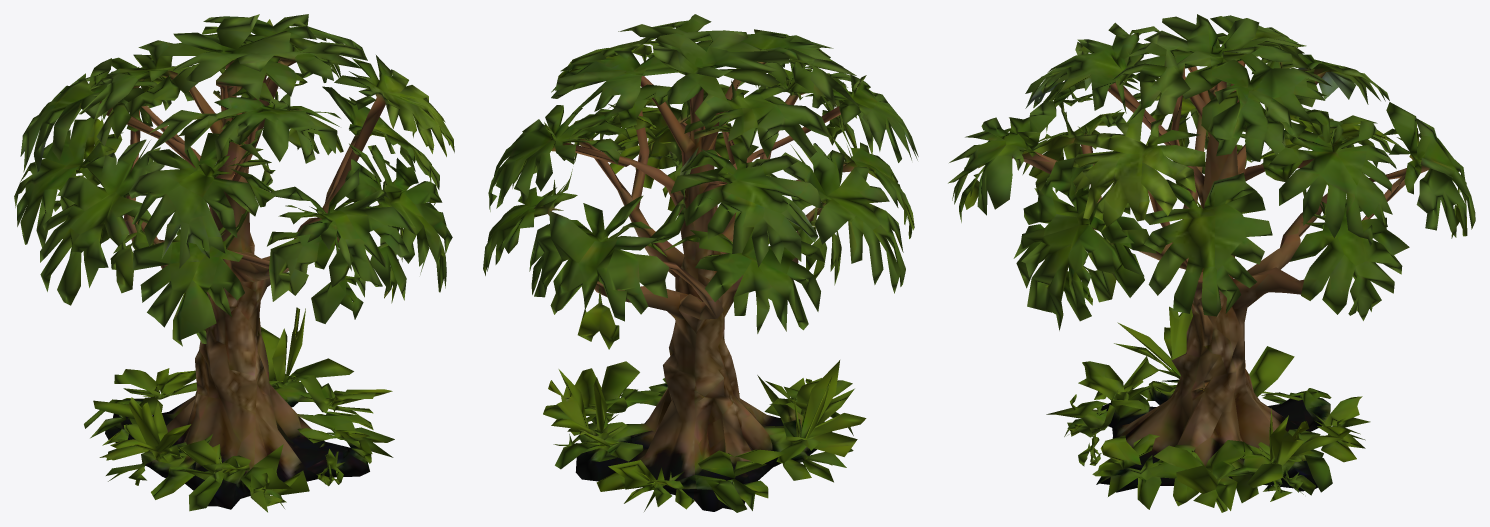
File: raintree.glb
The picture shows the model from 3 angles, left to right: view 1: azimuth 30°, elevation 25°; view 2: azimuth 150°, elevation 25°; view 3: azimuth 270°, elevation 25°; orthographic projection.
Visible parts, largest first — view 1: tripo_node_444a3f3c-3e28-434c-9027-f496572cd26c; view 2: tripo_node_444a3f3c-3e28-434c-9027-f496572cd26c; view 3: tripo_node_444a3f3c-3e28-434c-9027-f496572cd26c.
Part boxes in pixels (box(x1,y1,x2,y2)): tripo_node_444a3f3c-3e28-434c-9027-f496572cd26c: box(14, 14, 454, 512); tripo_node_444a3f3c-3e28-434c-9027-f496572cd26c: box(483, 14, 918, 512); tripo_node_444a3f3c-3e28-434c-9027-f496572cd26c: box(948, 14, 1475, 512).
Size of the model in its own units: 0.8468 by 0.8745 by 0.9987.
1 material, 1 textured.
